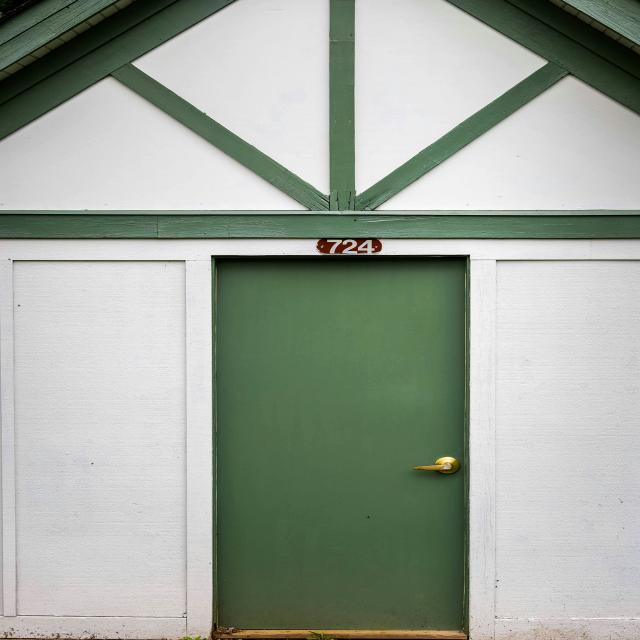door-handle: (414, 456, 459, 474)
